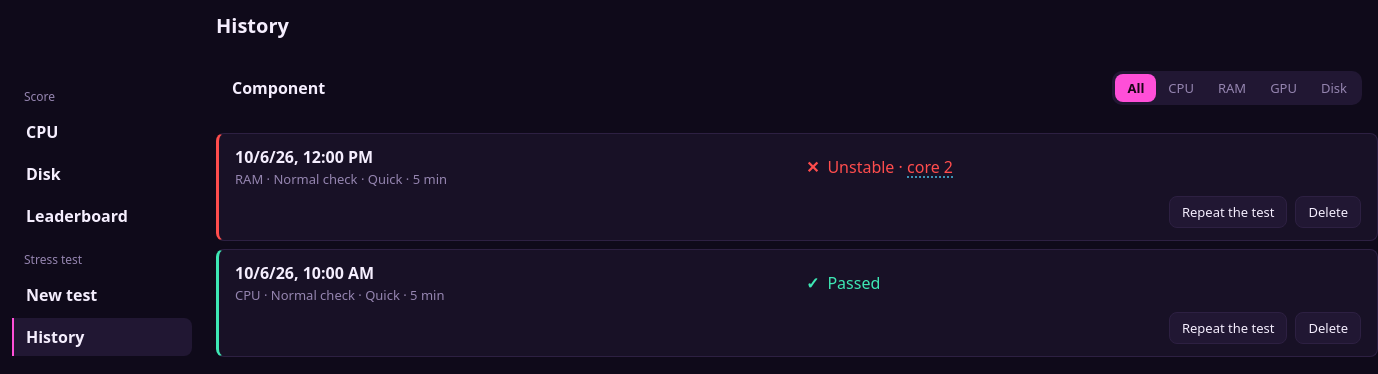
Test: delete_asks_then_removes
Check: the number of list items is 2, box x1=216 y1=133 x2=1377 y2=241; x1=216 y1=249 x2=1377 y2=357
Click the 2nd button "Delete": coordinates (1328, 328) x1=1296 y1=312 x2=1361 y2=344
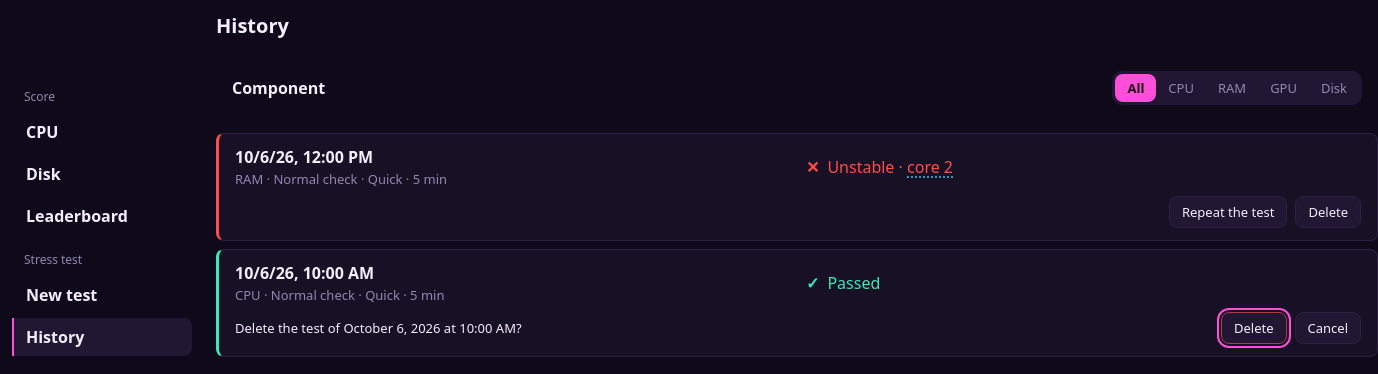
Click the 2nd button "Delete": coordinates (1254, 328) x1=1221 y1=312 x2=1286 y2=344
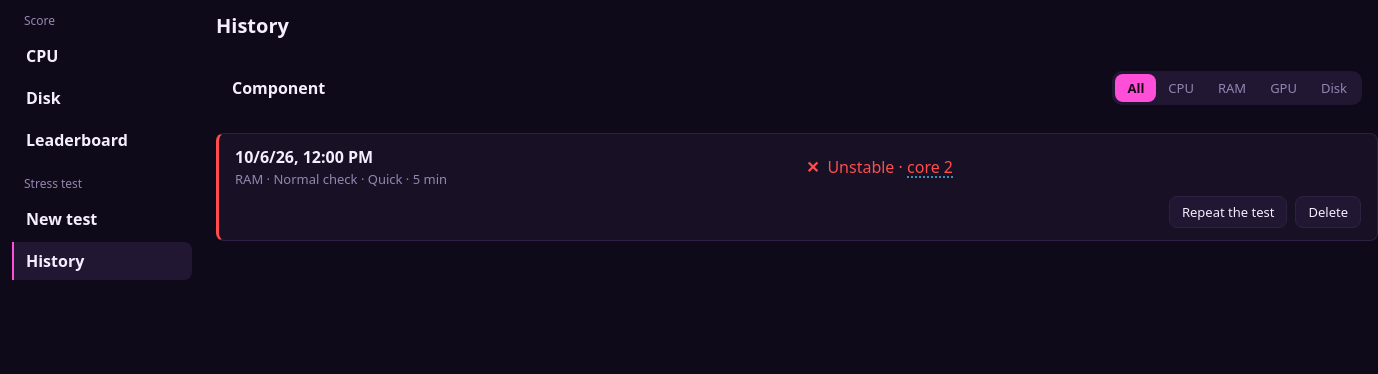
Check: the number of list items is 1, box x1=216 y1=133 x2=1377 y2=241
